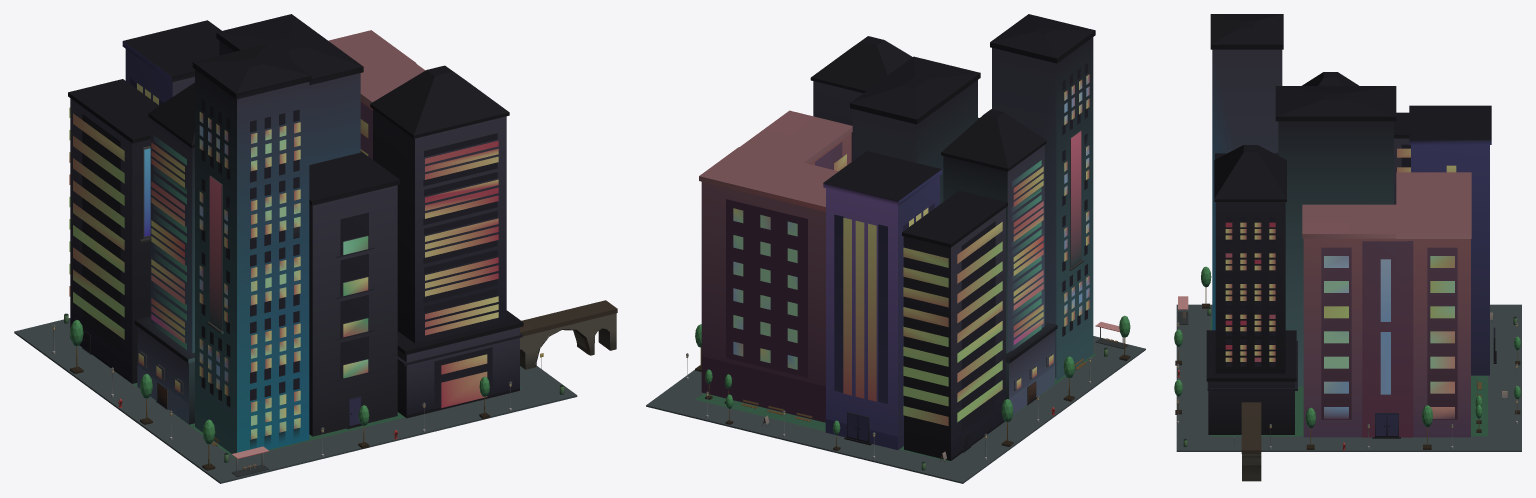
File: building-block-tall-z.fbx
The picture shows the model from 3 angles, left to right: view 1: azimuth 30°, elevation 25°; view 2: azimuth 150°, elevation 25°; view 3: azimuth 270°, elevation 25°; orthographic projection. The views are drawn at different scales.
Parts seen in each view (by area): view 1: building-block-tall; view 2: building-block-tall; view 3: building-block-tall.
Boxes of the visible parts, x1,y1,x2,y2 form: building-block-tall: [14, 14, 617, 483]; building-block-tall: [646, 14, 1145, 483]; building-block-tall: [1174, 14, 1521, 481].
Size of the model in its own units: 49.92 by 45.16 by 41.17.
